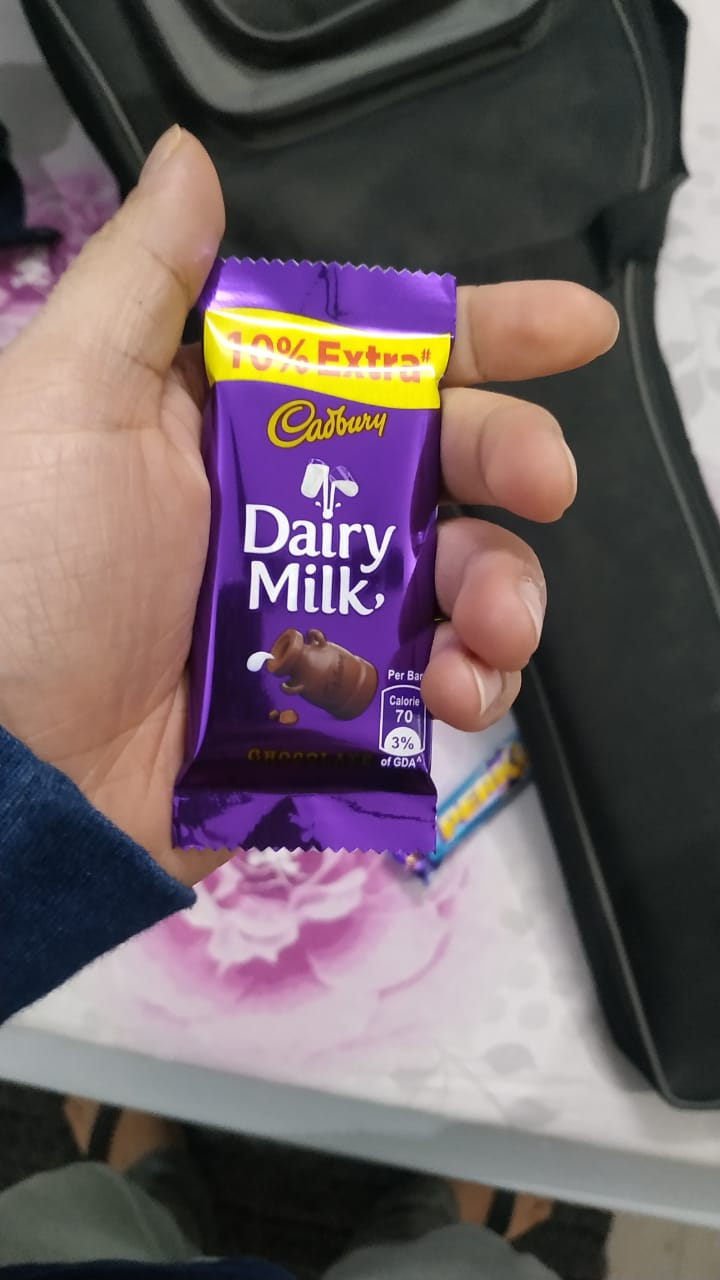dairy milk: (170, 235, 445, 882)
